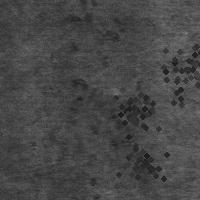rolled-in_scale: (99, 76, 167, 144), (146, 27, 200, 107), (68, 76, 128, 147), (115, 137, 165, 187)
